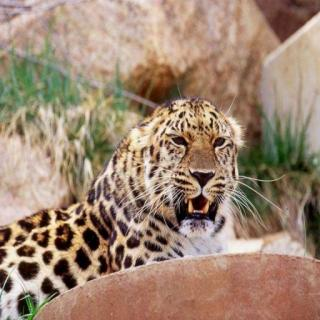Leopard: (0, 88, 263, 300)
